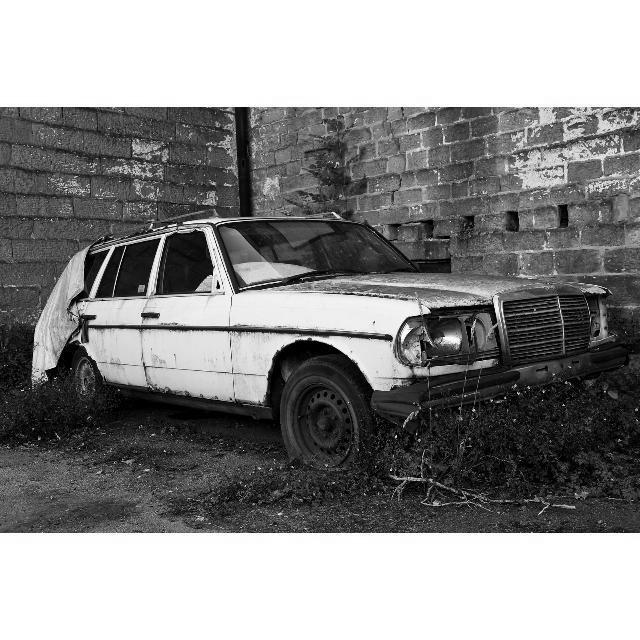Headlight-damage: (395, 294, 495, 377)
bonnet-dent: (265, 260, 613, 317)
doorouter-dent: (143, 295, 243, 393), (67, 304, 143, 394)
fender-dent: (234, 292, 406, 407)
